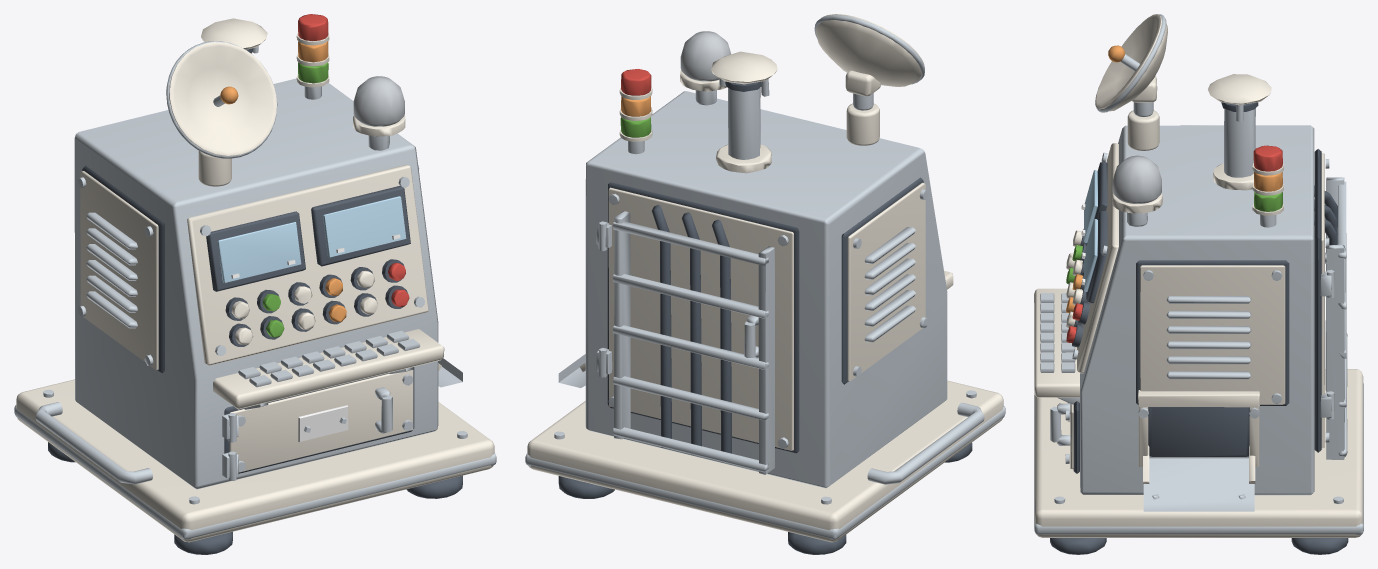
File: fine_machine_console.glb
3 renders of one model, left to right at view 1: azimuth 30°, elevation 25°; view 2: azimuth 150°, elevation 25°; view 3: azimuth 270°, elevation 25°, orthographic. The views are drawn at different scales.
Parts seen in each view (by area): view 1: fine_machine_console_structure, spin, lamp; view 2: fine_machine_console_structure, spin, lamp; view 3: fine_machine_console_structure, spin, lamp.
Part boxes in pixels (x1,y1,x2,y2): fine_machine_console_structure: (14, 14, 496, 554); spin: (166, 41, 277, 158); lamp: (353, 76, 404, 126); fine_machine_console_structure: (525, 51, 1005, 554); spin: (814, 14, 924, 110); lamp: (680, 31, 730, 81); fine_machine_console_structure: (1034, 74, 1363, 554); spin: (1095, 14, 1167, 116); lamp: (1112, 155, 1161, 203).
Bounding box in the file's own units: 3.2 × 3.92 × 2.67.
